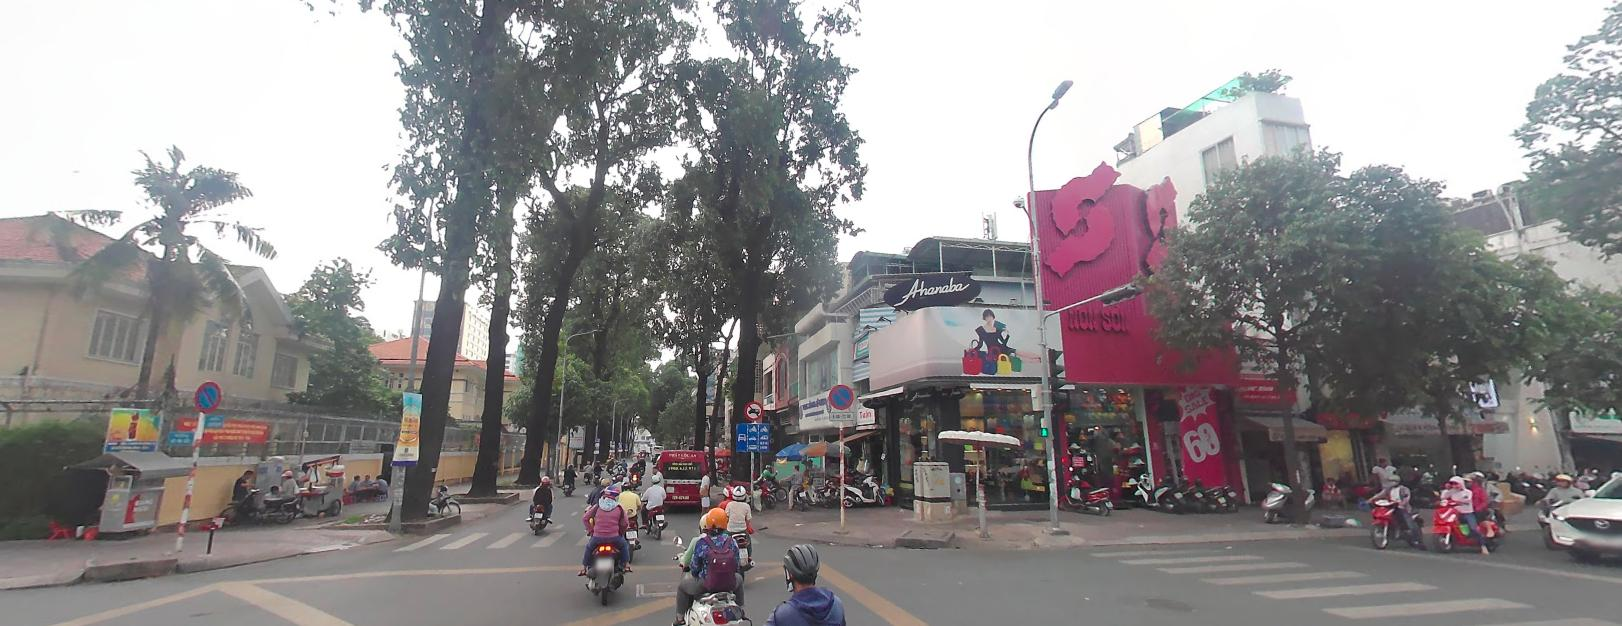Cam con lai: (743, 399, 762, 418)
Cam dung va do: (194, 379, 221, 410), (827, 381, 855, 408)
